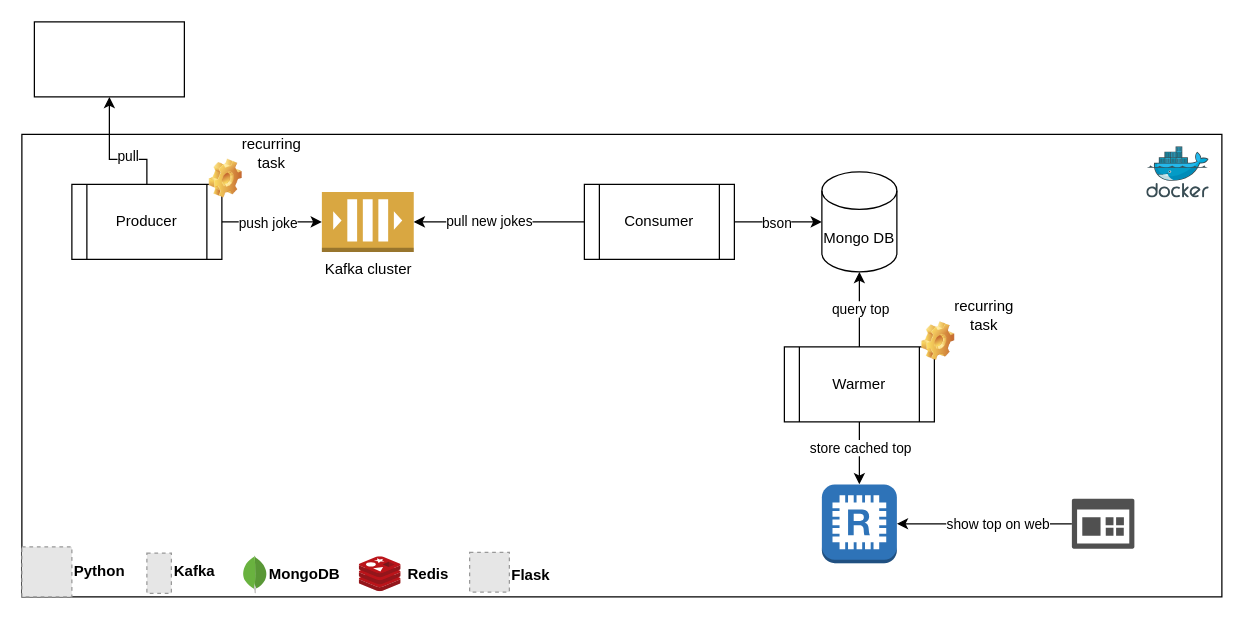
This 1244x619 diagram has some shape labels left out. Grey dashed boxes stand in for pictures. The centre of each missing label's shape, as x and y in pixels:
Flask web: point 1102,523
Mock API: point 108,59
